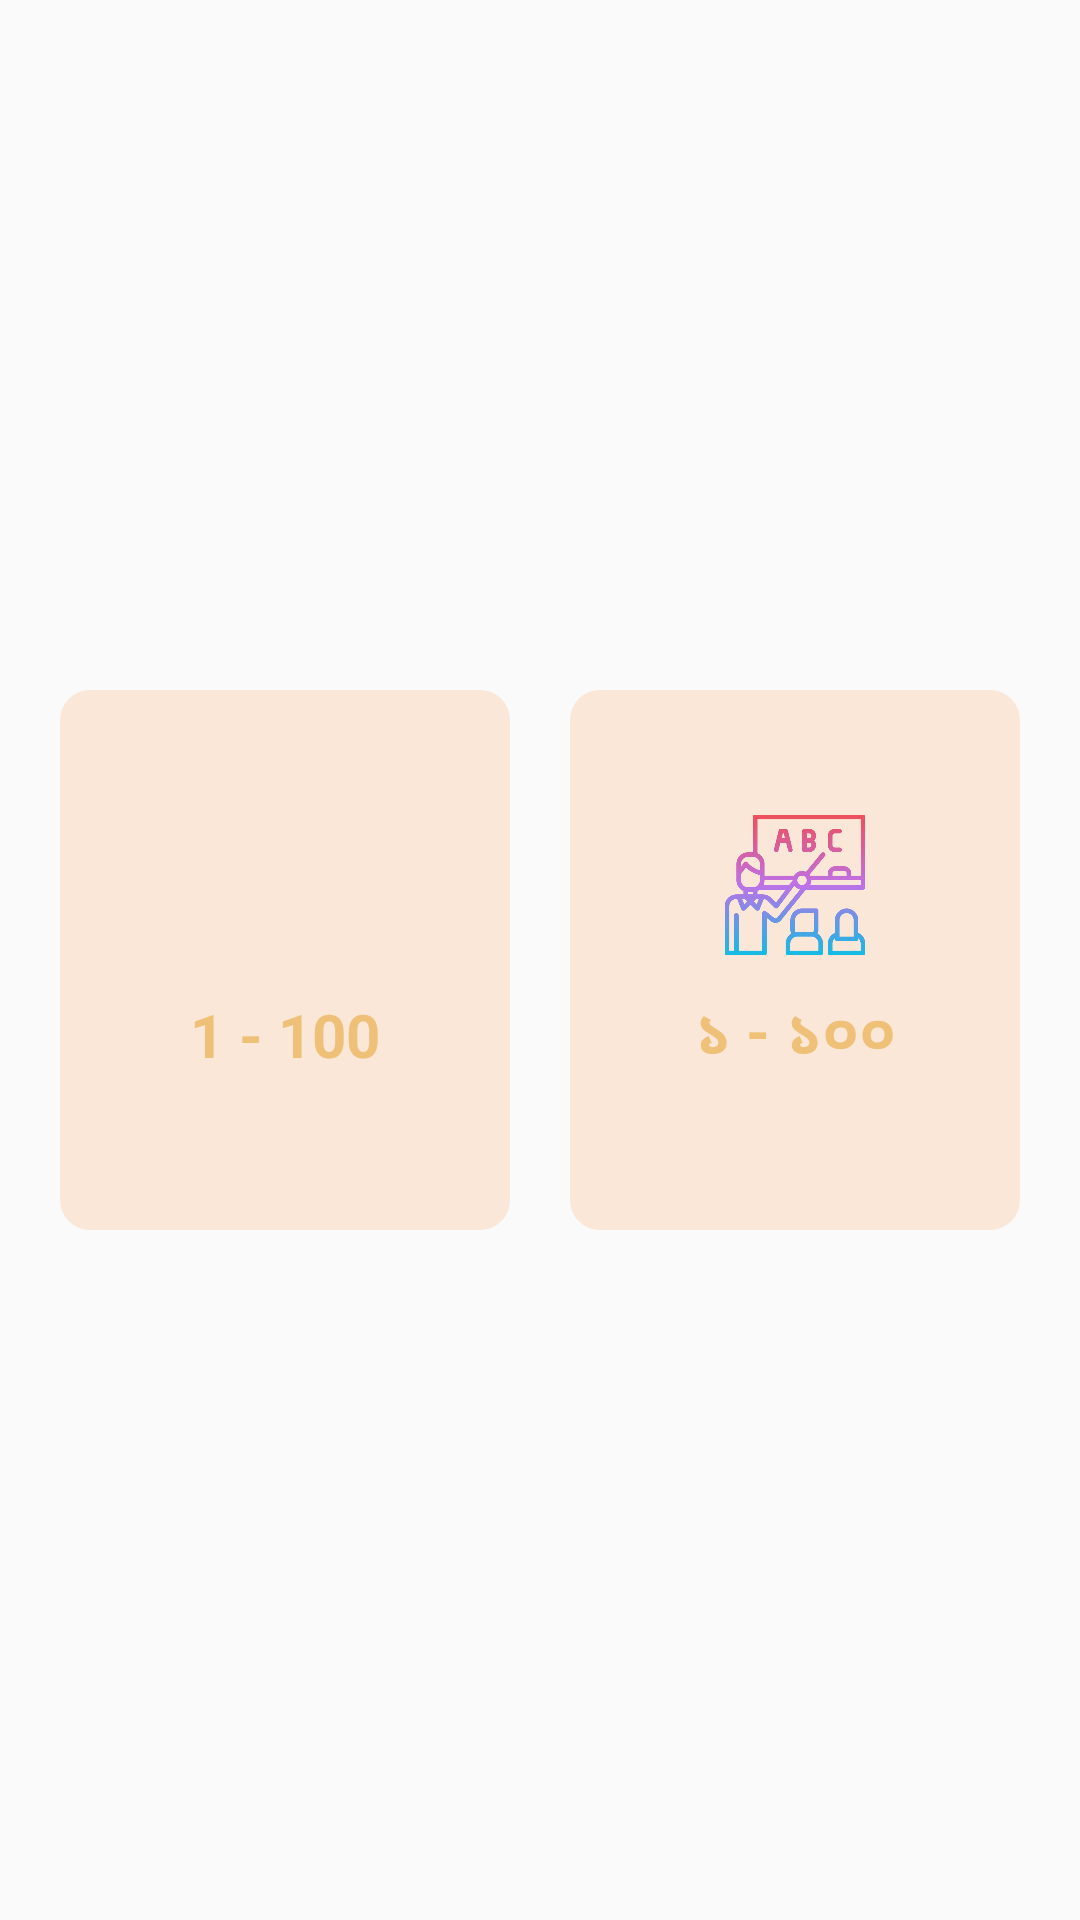

Screen size 1080*1920. Icon name, then its center in pixels as (x=x, y=y):
teaching: (x=795, y=885)
